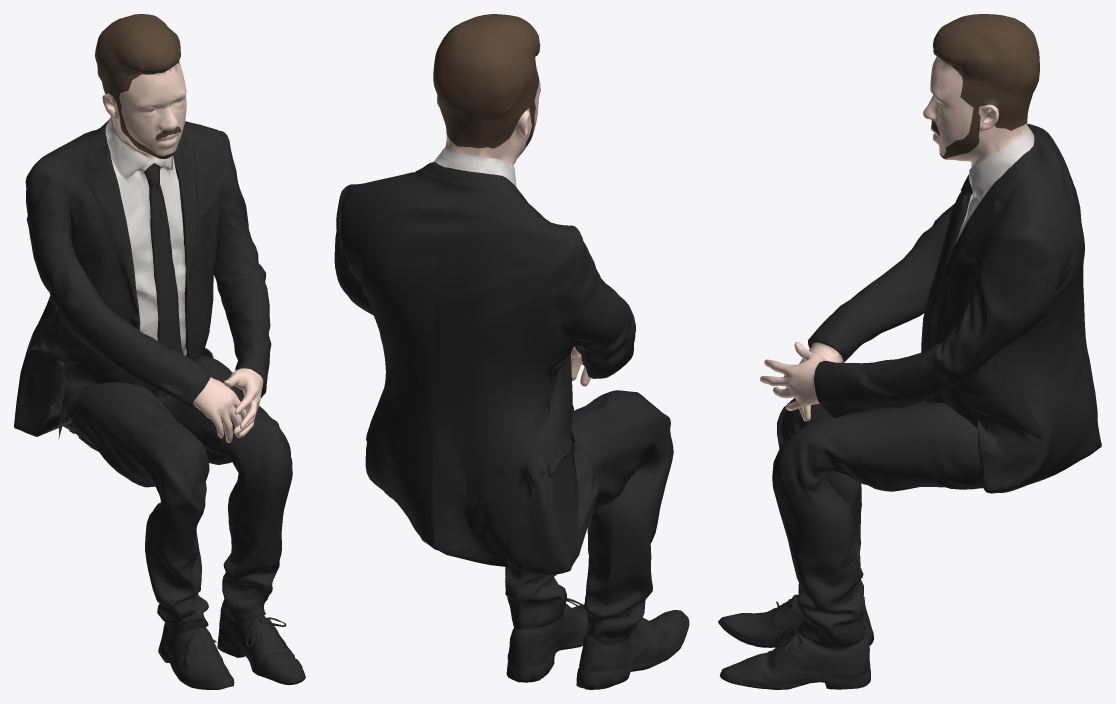
File: H_Male_A01_Sit02.fbx
3 renders of one model, left to right at view 1: azimuth 30°, elevation 25°; view 2: azimuth 150°, elevation 25°; view 3: azimuth 270°, elevation 25°, orthographic. The views are drawn at different scales.
Parts seen in each view (by area): view 1: H_Male_A01; view 2: H_Male_A01; view 3: H_Male_A01.
Boxes of the visible parts, x1=… form: H_Male_A01: x1=14, y1=14, x2=305, y2=689; H_Male_A01: x1=334, y1=14, x2=689, y2=689; H_Male_A01: x1=718, y1=14, x2=1101, y2=689.
Bounding box in the file's own units: 49.87 × 134 × 71.79.
